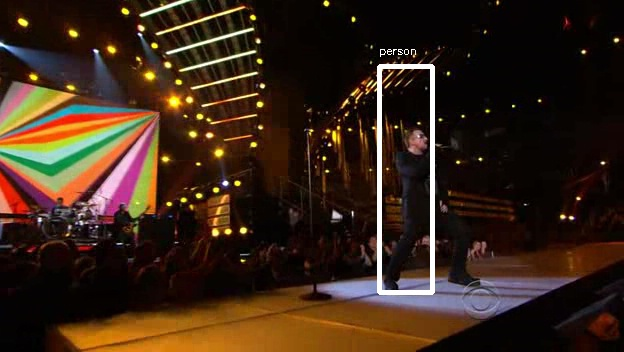person: (394, 132, 455, 241), (391, 132, 452, 241), (397, 132, 458, 241), (394, 129, 455, 238), (394, 135, 455, 244)
target_negative: (41, 329, 411, 344), (332, 269, 505, 288), (216, 143, 232, 319), (569, 254, 603, 283), (124, 272, 187, 280), (619, 298, 622, 311)
